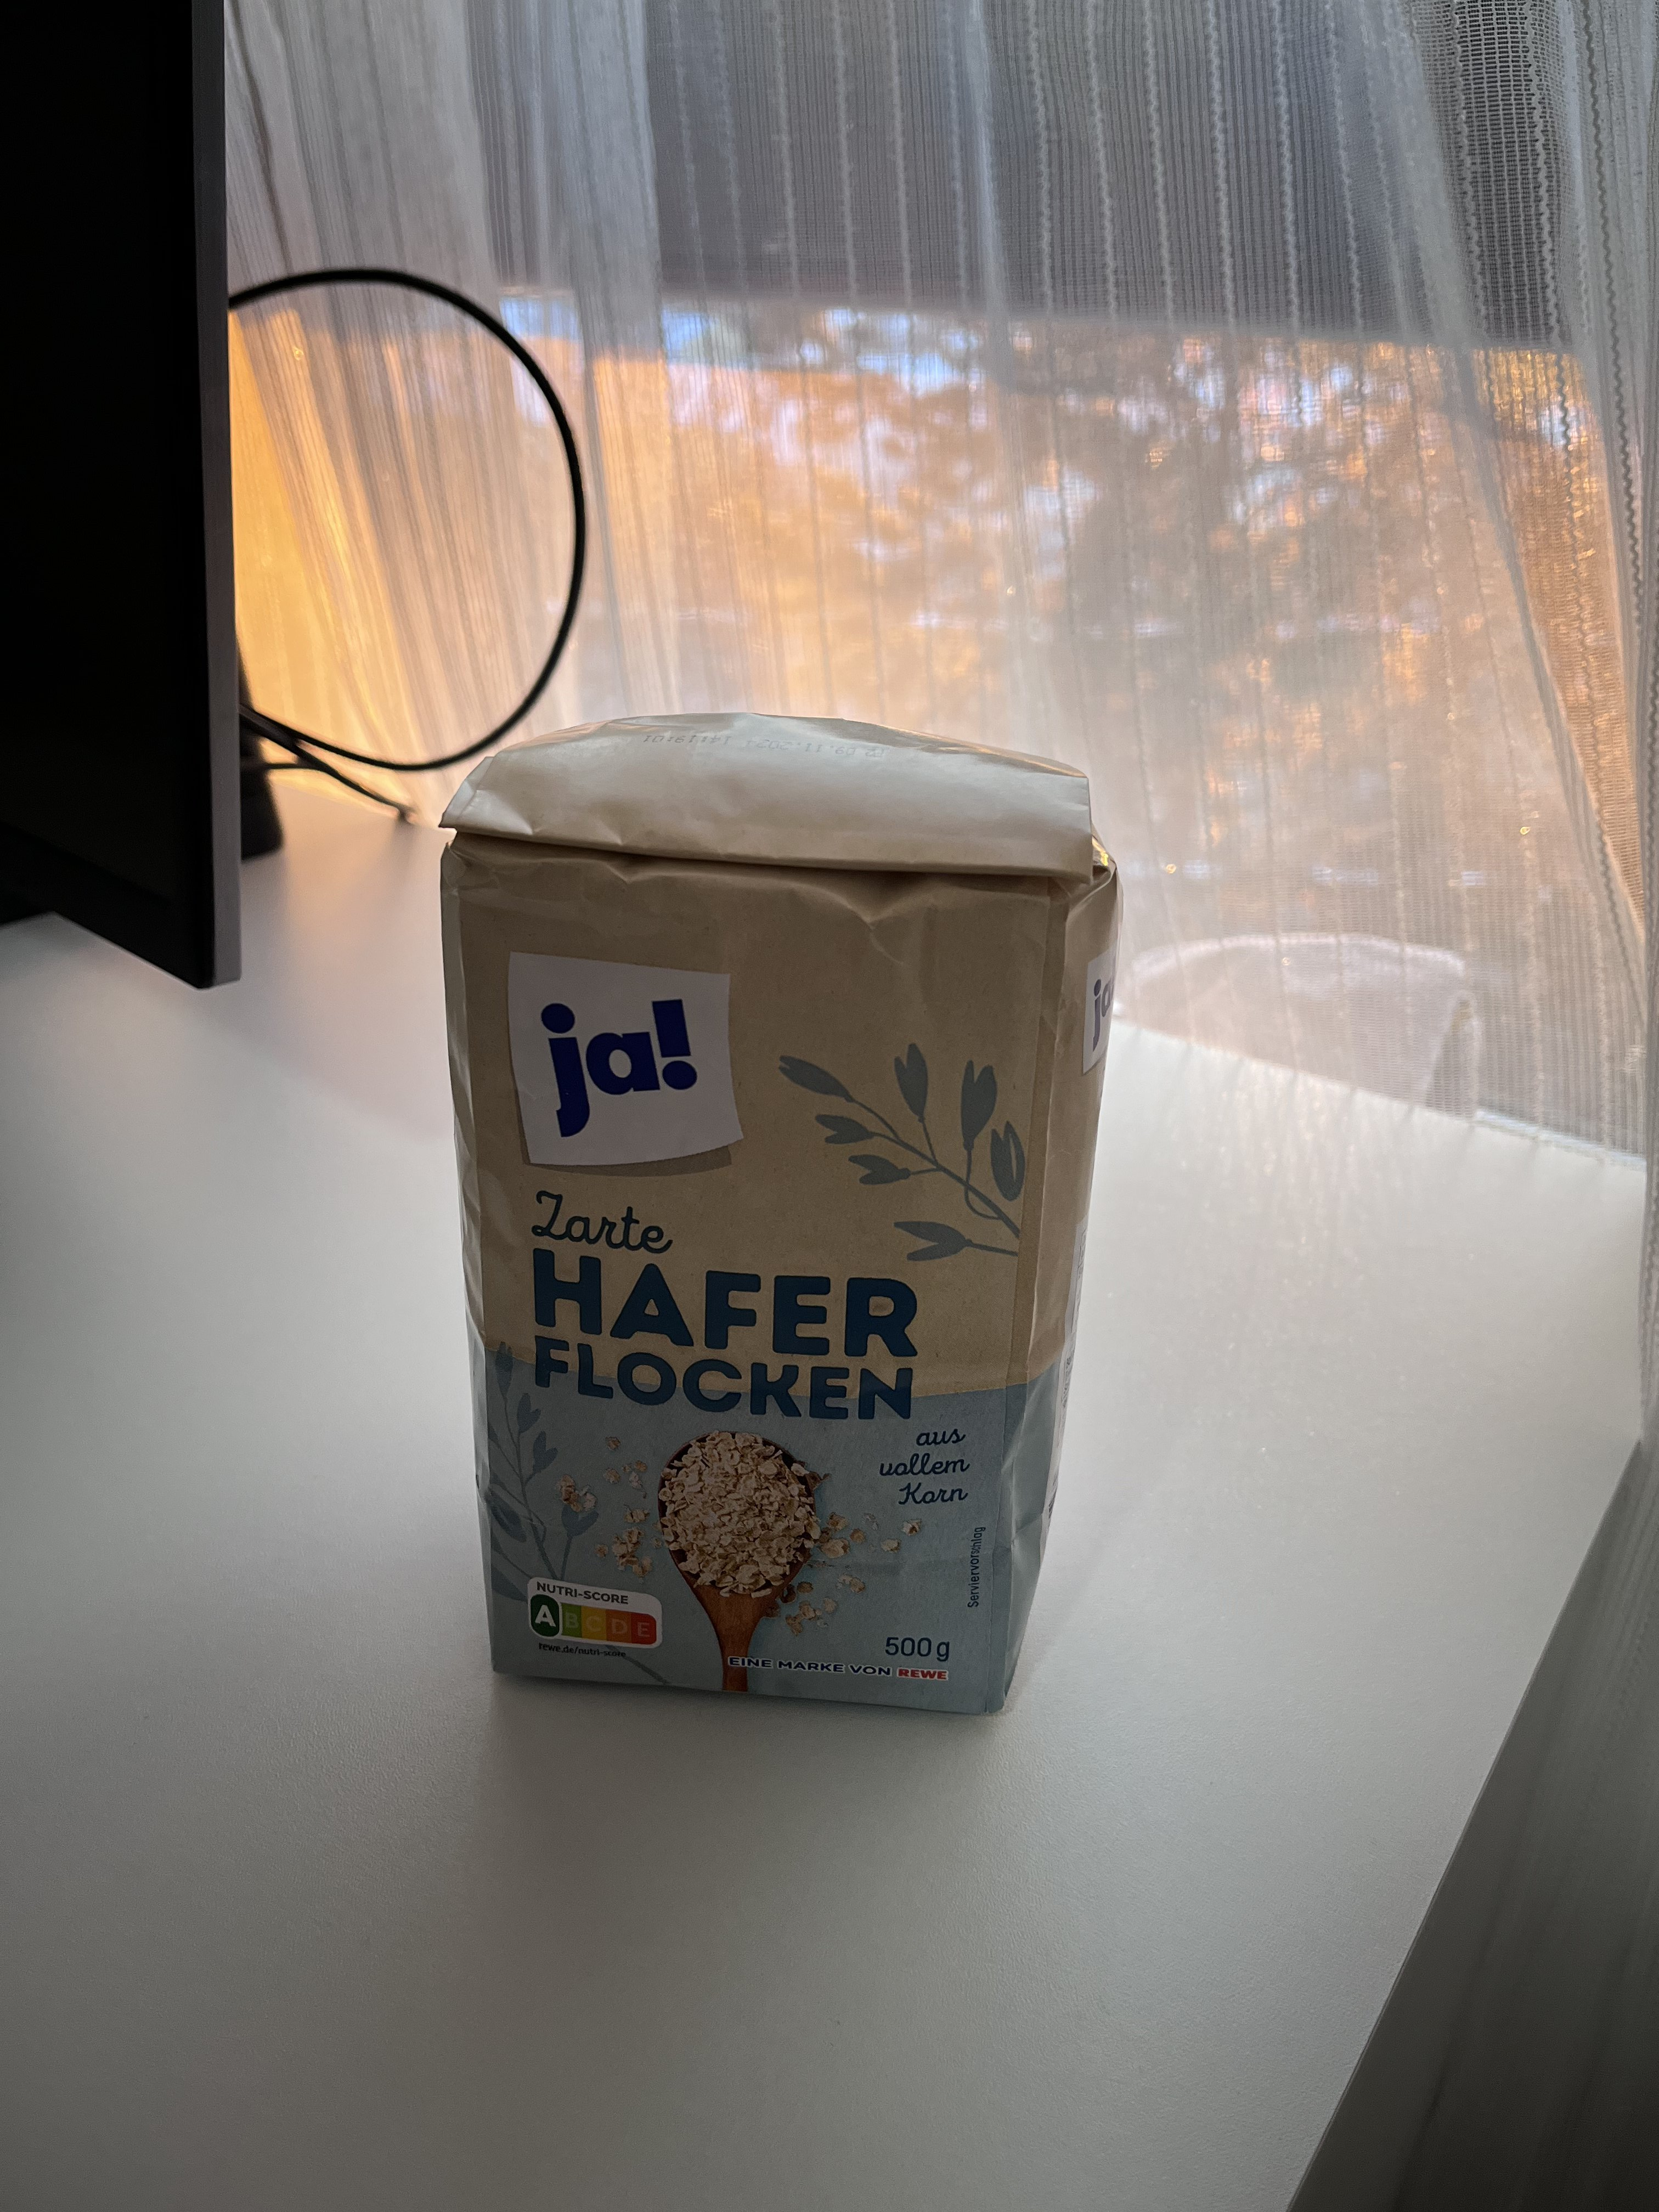haferflocken_ja: (436, 707, 1119, 1728)
